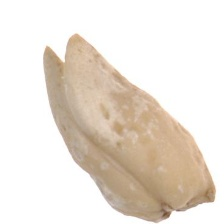L1: (162, 185, 216, 219), (42, 32, 80, 76)
L2: (42, 33, 217, 223)
